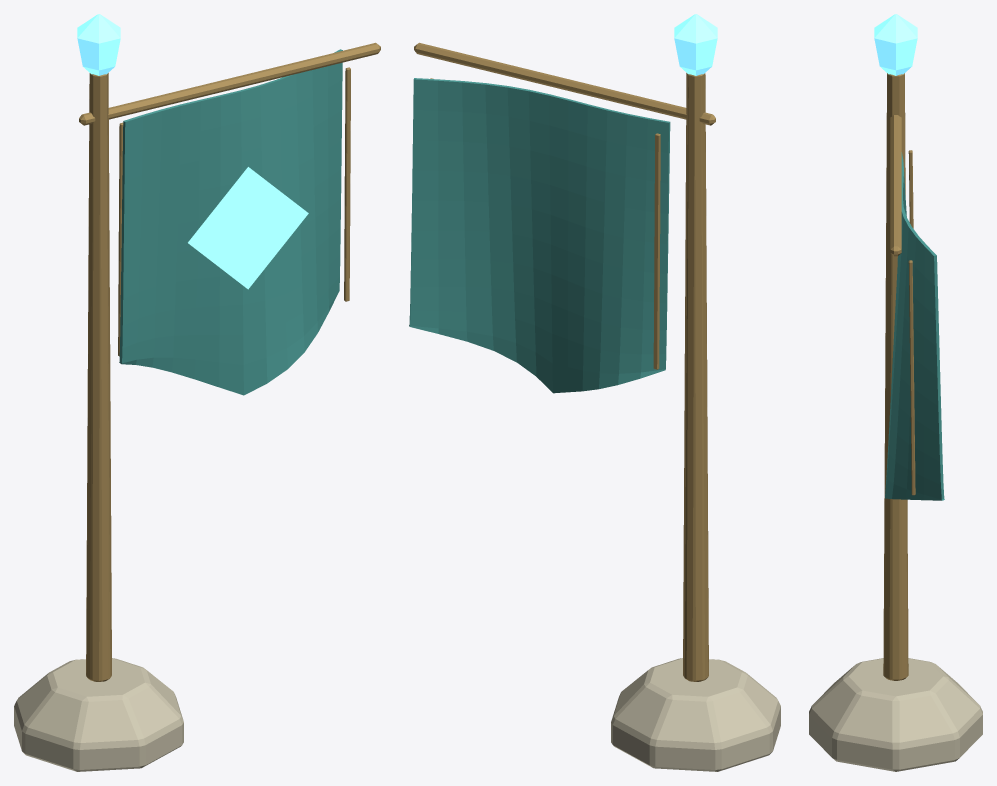
Rendered from banner_blue.glb.
3 views of the same model, side by side, from view 1: azimuth 30°, elevation 25°; view 2: azimuth 150°, elevation 25°; view 3: azimuth 270°, elevation 25° (orthographic).
Visible parts, largest first — view 1: banner_blue / mesh; view 2: banner_blue / mesh; view 3: banner_blue / mesh.
Boxes of the visible parts, <box> form: banner_blue / mesh: <box>14,14,380,771</box>; banner_blue / mesh: <box>409,14,780,771</box>; banner_blue / mesh: <box>809,14,982,771</box>.
Bounding box in the file's own units: 2.79 × 5.41 × 1.18.
